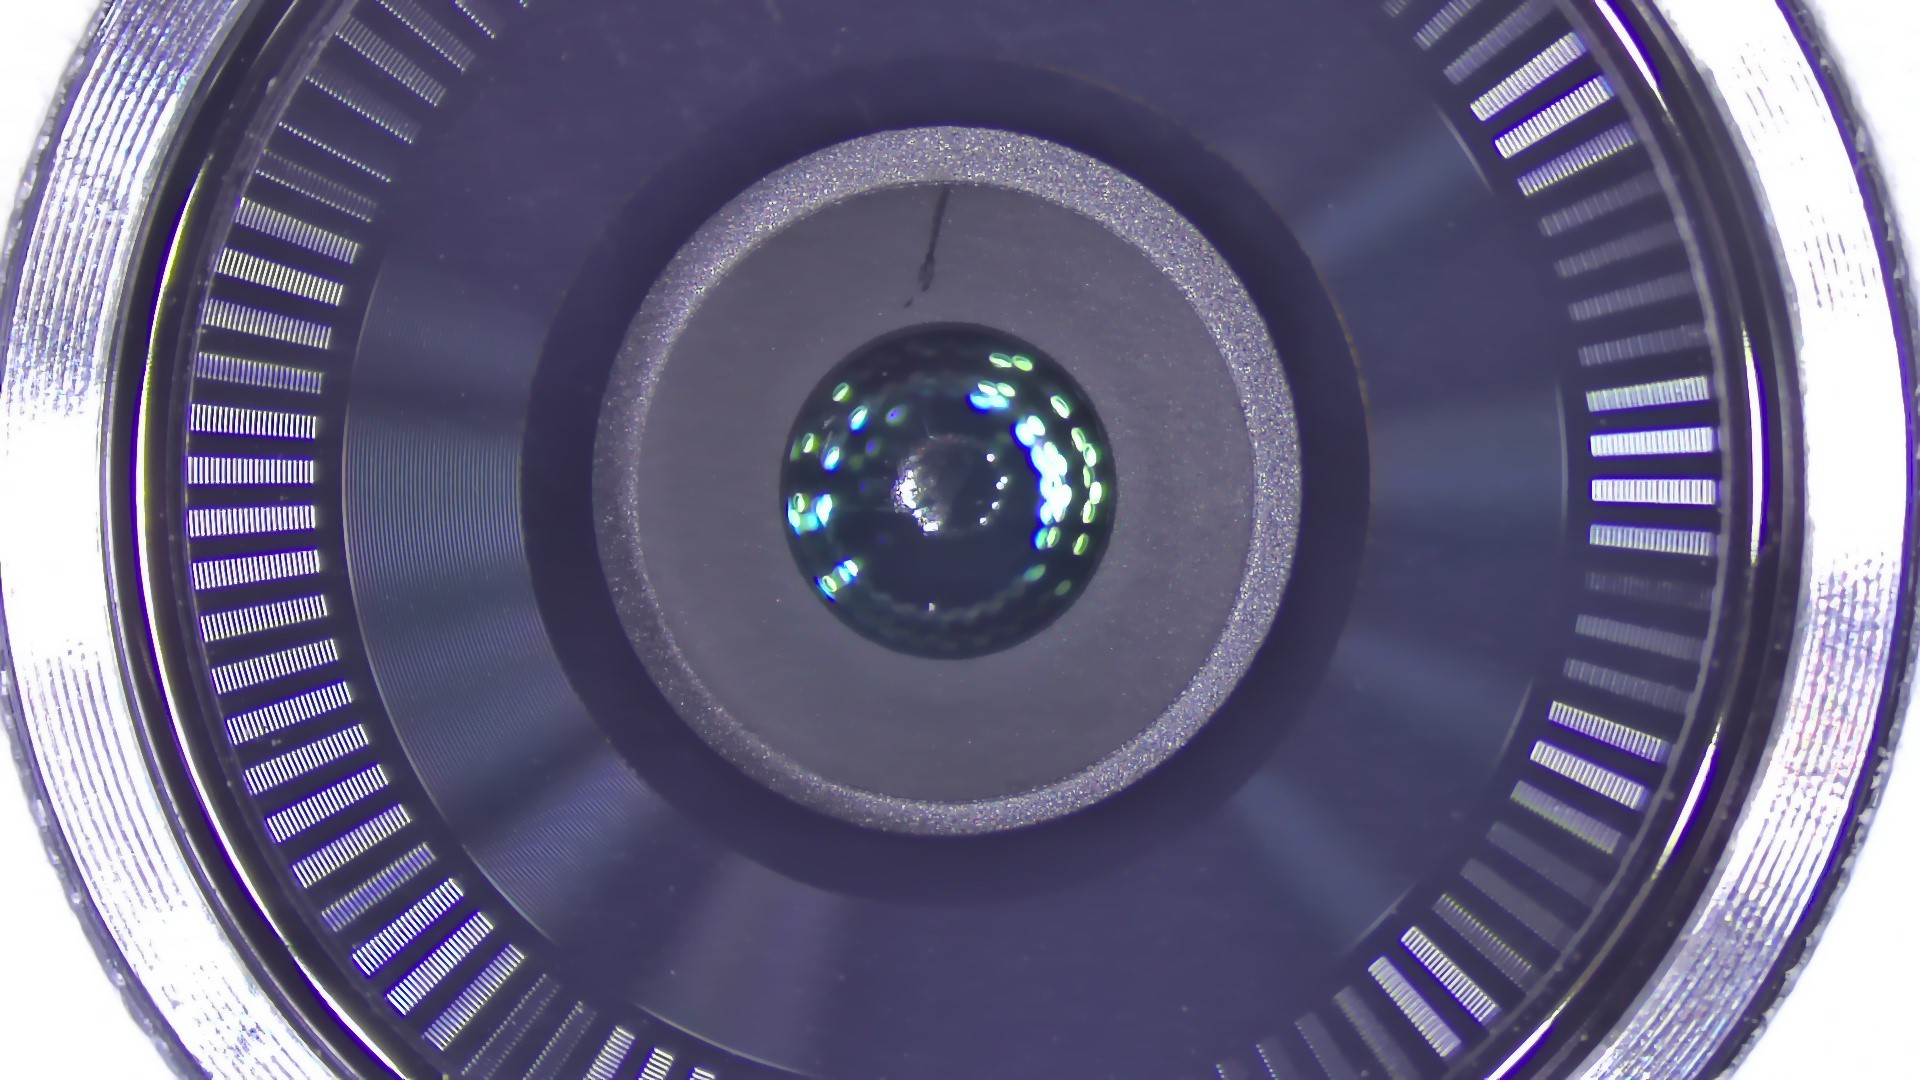crack: (907, 175, 953, 316)
